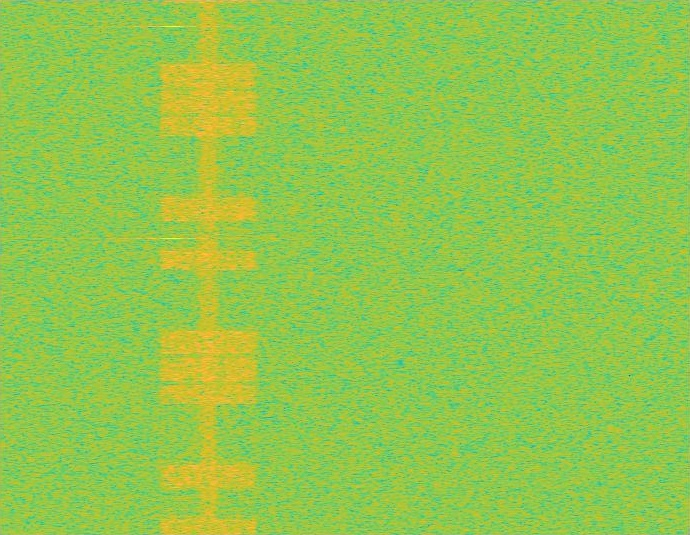DSSS: (197, 0, 220, 534)
LTE: (157, 0, 260, 534)
Radar: (165, 0, 179, 534)
